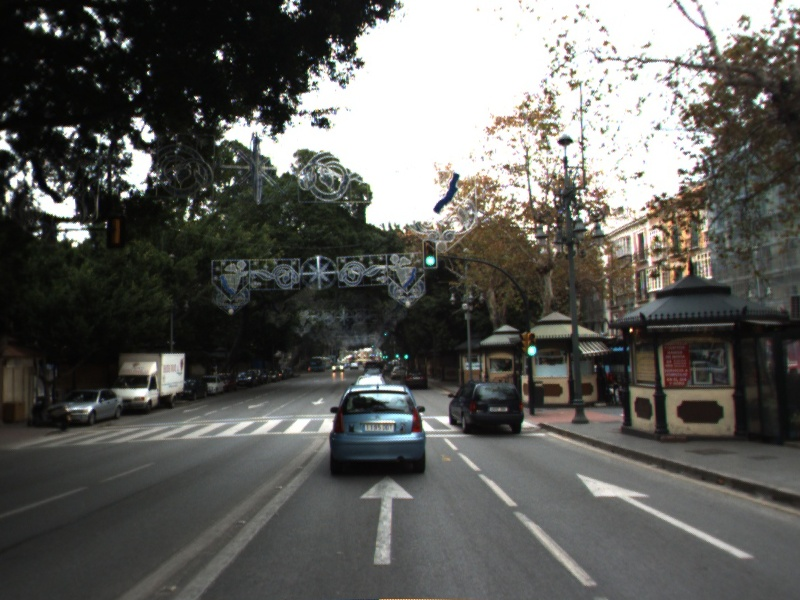STRAIGHT: (574, 471, 758, 562), (356, 473, 417, 567)
